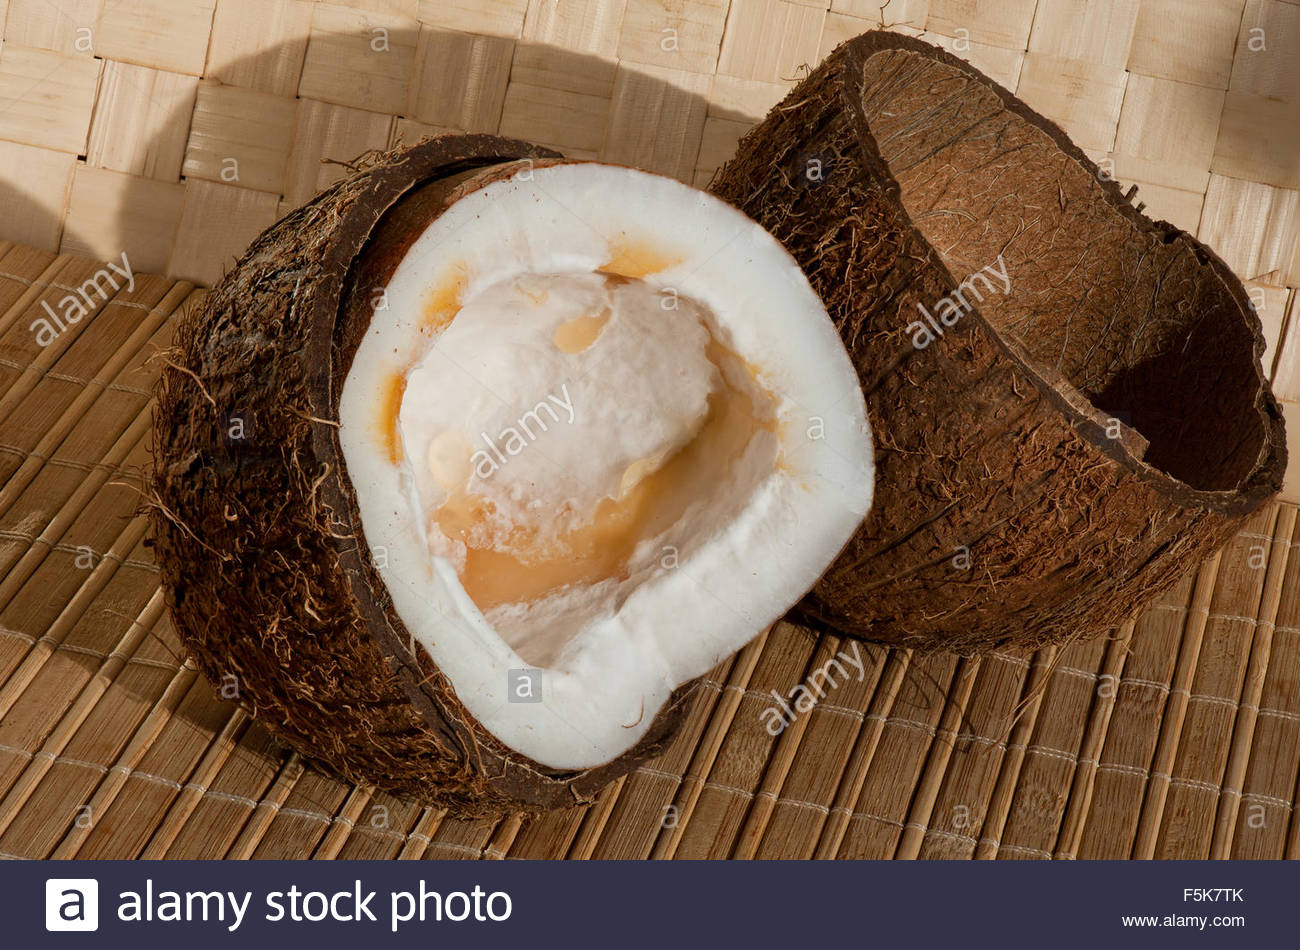damaged_coconut: (172, 144, 854, 761)
